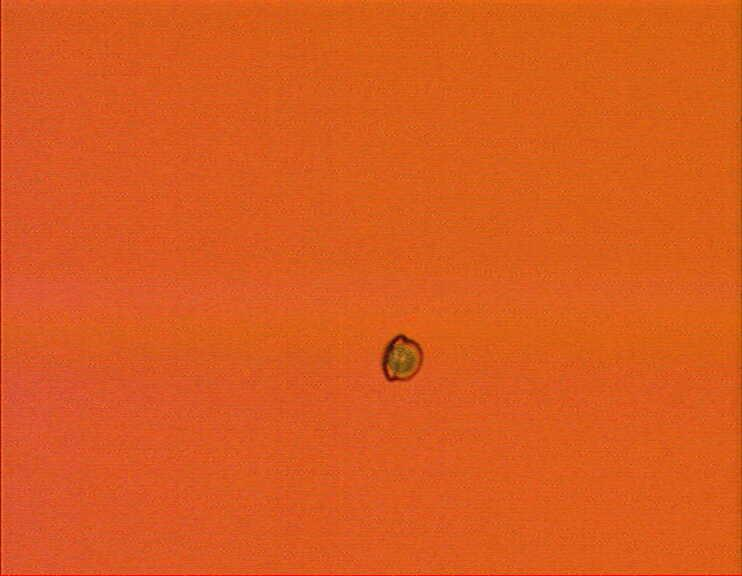PIQ PARTICLE: (376, 333, 428, 385)
